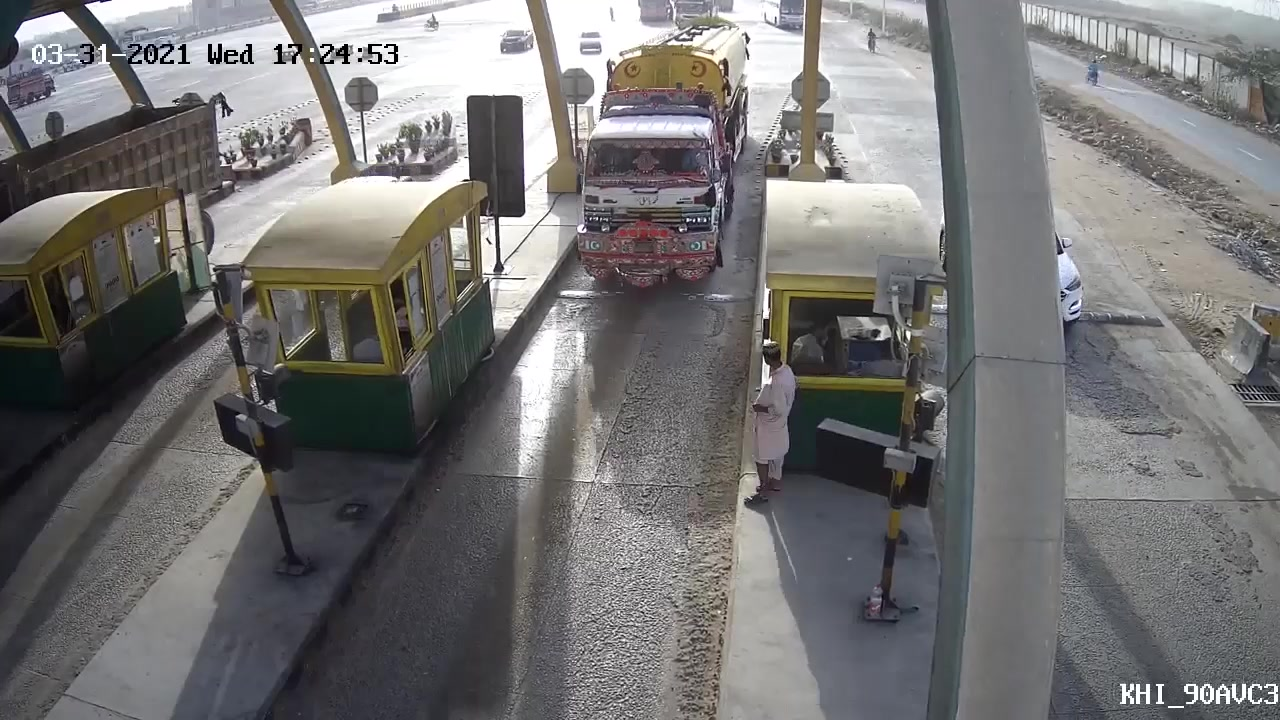F6: (564, 33, 748, 301)
